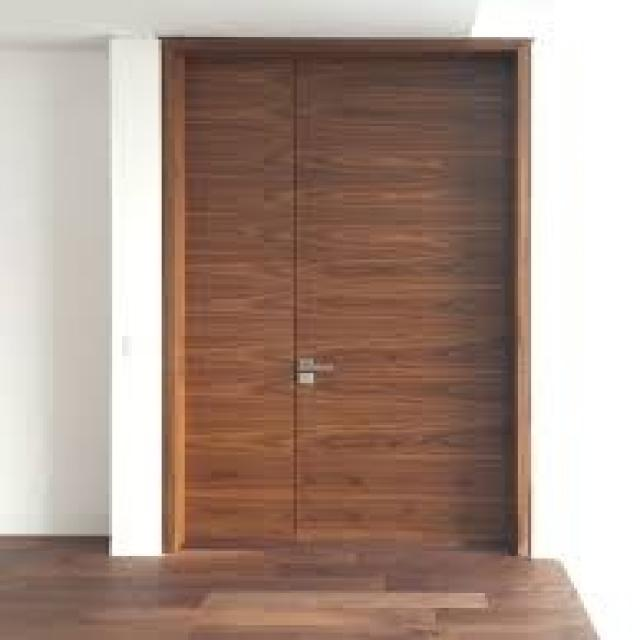door: (162, 37, 528, 556)
